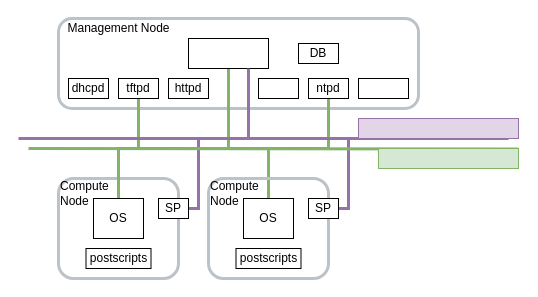
This 538x297 diagram has some shape labels left out. The box of each missing label's shape, as (x1, y1, x2, y2) in pixels:
DNS: (258, 78, 298, 98)
Management Network: (378, 148, 518, 168)
Service Network (IPMI, ...): (358, 118, 518, 138)
syslogd: (358, 78, 408, 98)
xcatd: (188, 38, 268, 68)
